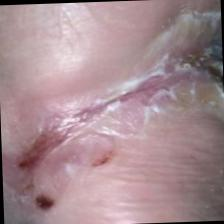wound-ulser: (0, 30, 224, 210)
